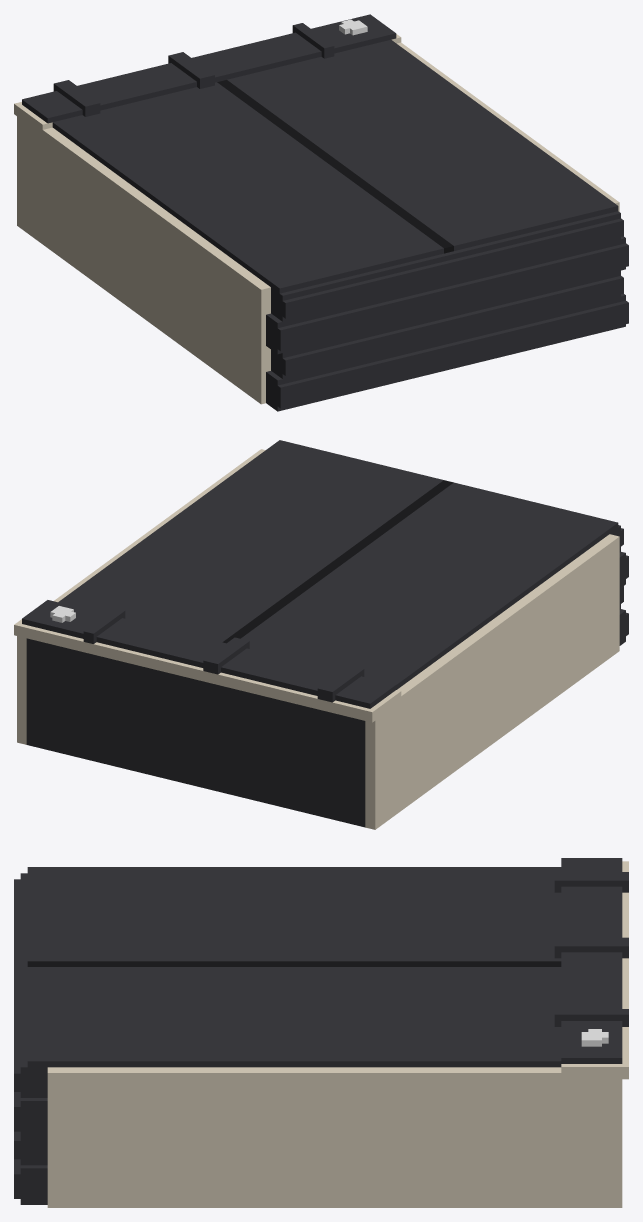
The model's file is pants_faux_fur.glb.
The picture shows the model from 3 angles, top to bottom: view 1: azimuth 30°, elevation 25°; view 2: azimuth 150°, elevation 25°; view 3: azimuth 270°, elevation 25°; orthographic projection. The views are drawn at different scales.
Parts seen in each view (by area): view 1: pants_faux_fur:compound; view 2: pants_faux_fur:compound; view 3: pants_faux_fur:compound.
Boxes of the visible parts, box(x1,y1,x2,y2) form: pants_faux_fur:compound: box(14, 14, 628, 411); pants_faux_fur:compound: box(14, 440, 628, 829); pants_faux_fur:compound: box(14, 858, 628, 1207).
Size of the model in its own units: 0.288 by 0.1 by 0.364.
